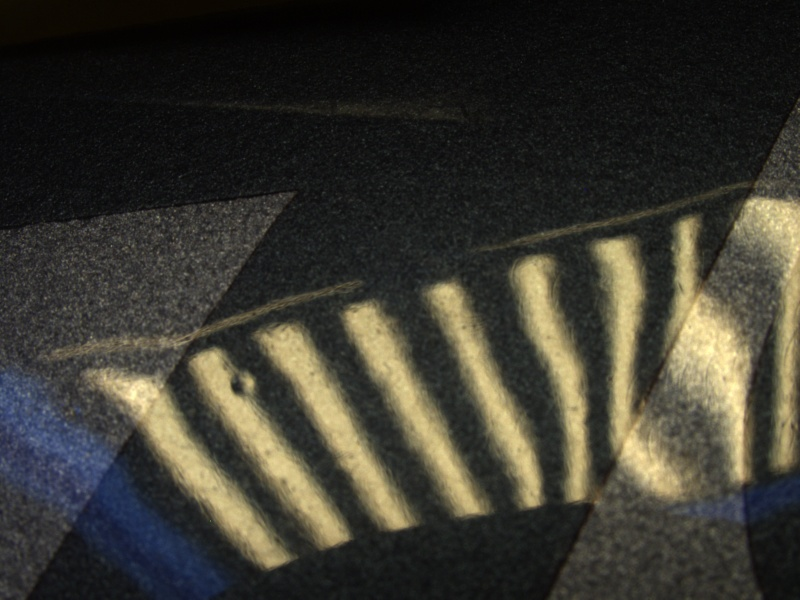bad: (222, 361, 265, 405)
